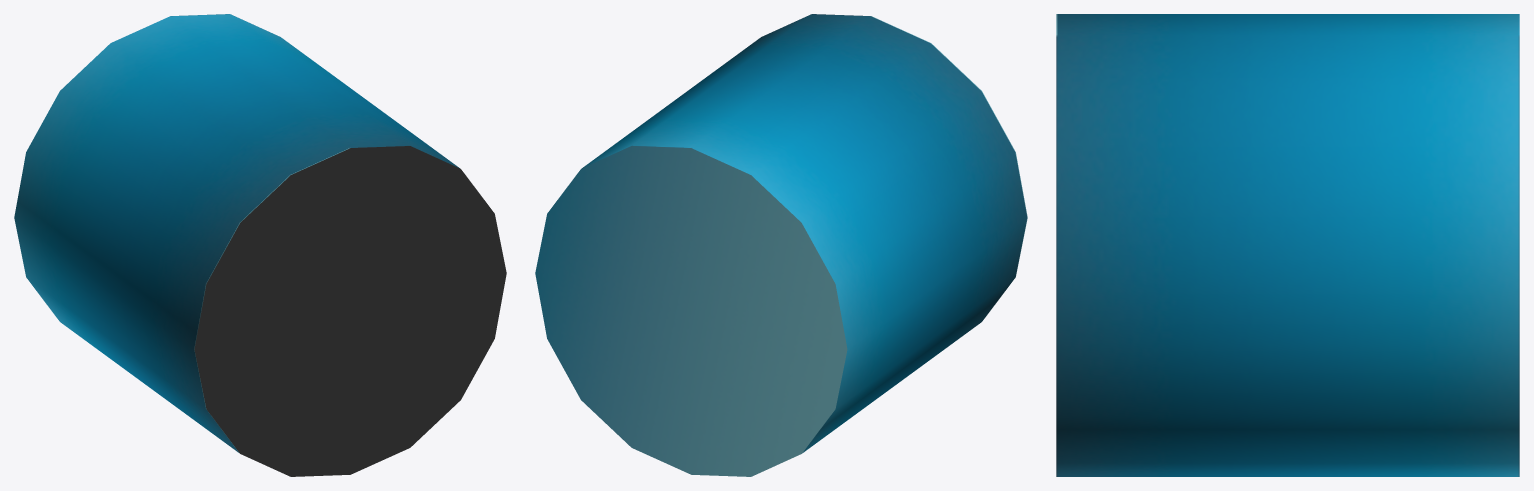
The model's file is laser_pointer.obj.
3 views of the same model, side by side, from view 1: azimuth 30°, elevation 25°; view 2: azimuth 150°, elevation 25°; view 3: azimuth 270°, elevation 25° (orthographic). The views are drawn at different scales.
Parts seen in each view (by area): view 1: laser_pointer (2); view 2: laser_pointer (2); view 3: laser_pointer (2).
Boxes of the visible parts, <box> form: laser_pointer (2): <box>14,14,506,476</box>; laser_pointer (2): <box>535,14,1027,476</box>; laser_pointer (2): <box>1056,14,1519,476</box>.
Size of the model in its own units: 1 by 1 by 1.
1 material, 1 textured.
